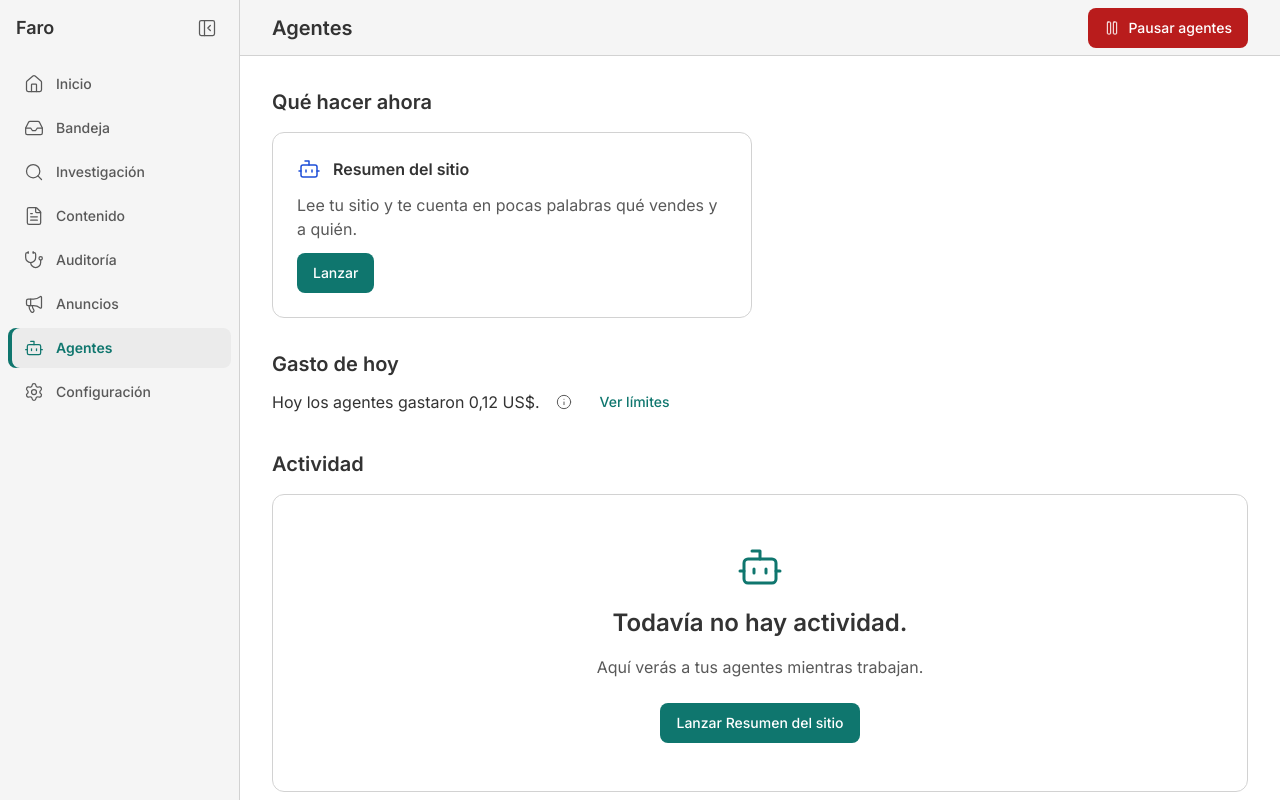
it: Lanzar Resumen del sitio (spec F1b §3.3) › bloqueado por agents.paused: mensaje y botón deshabilitado
The image size is (1280, 800).
Click the button with aria-label "Lanzar Resumen del sitio" at [336, 273], box [297,253,374,293]
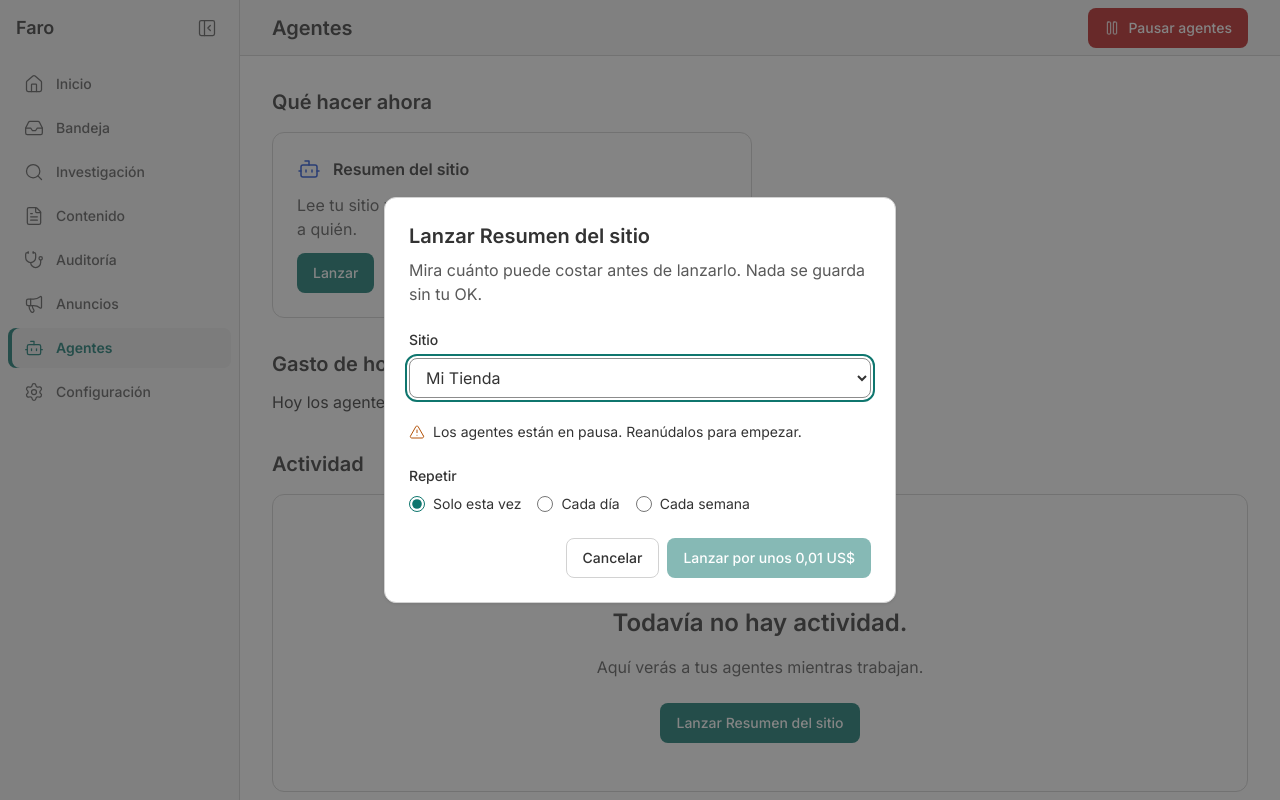
Now the text "Los agentes están en pausa. Reanúdalos para empezar." is shown, box [409,422,871,442]
Now the button "Lanzar por unos 0,01 US$" is disabled, box [667,538,871,578]
